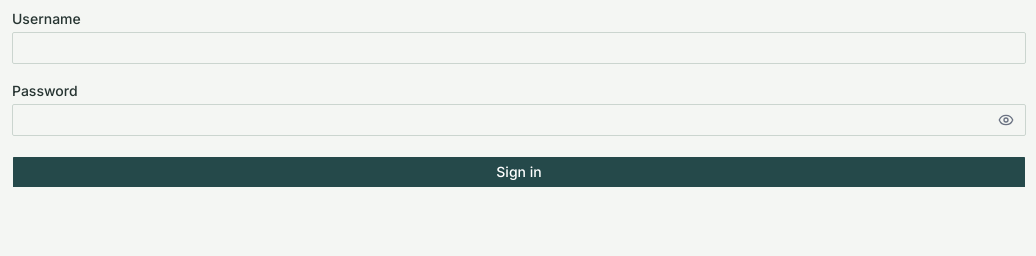
Test: LoginForm › shows validation messages for empty fields
The image size is (1036, 256).
Click the button "Sign in": (519, 172) [12,156,1026,188]
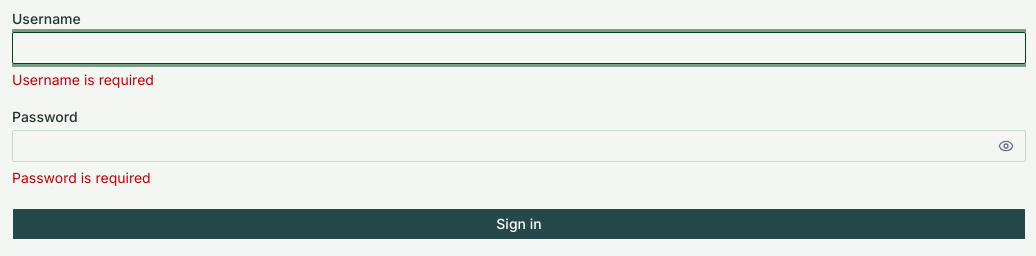
Result: the text "Username is required" is shown at [12,71,154,88]
Result: the text "Password is required" is shown at [12,169,151,186]
